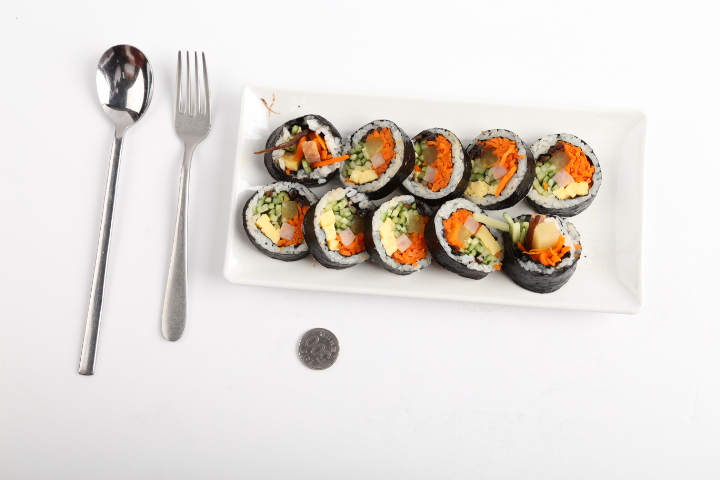dish: (224, 83, 647, 315)
ref_coin: (298, 327, 339, 370)
ref_fork: (174, 50, 211, 150)
ref_spoon: (96, 44, 154, 138)
김밥: (242, 112, 602, 293)
